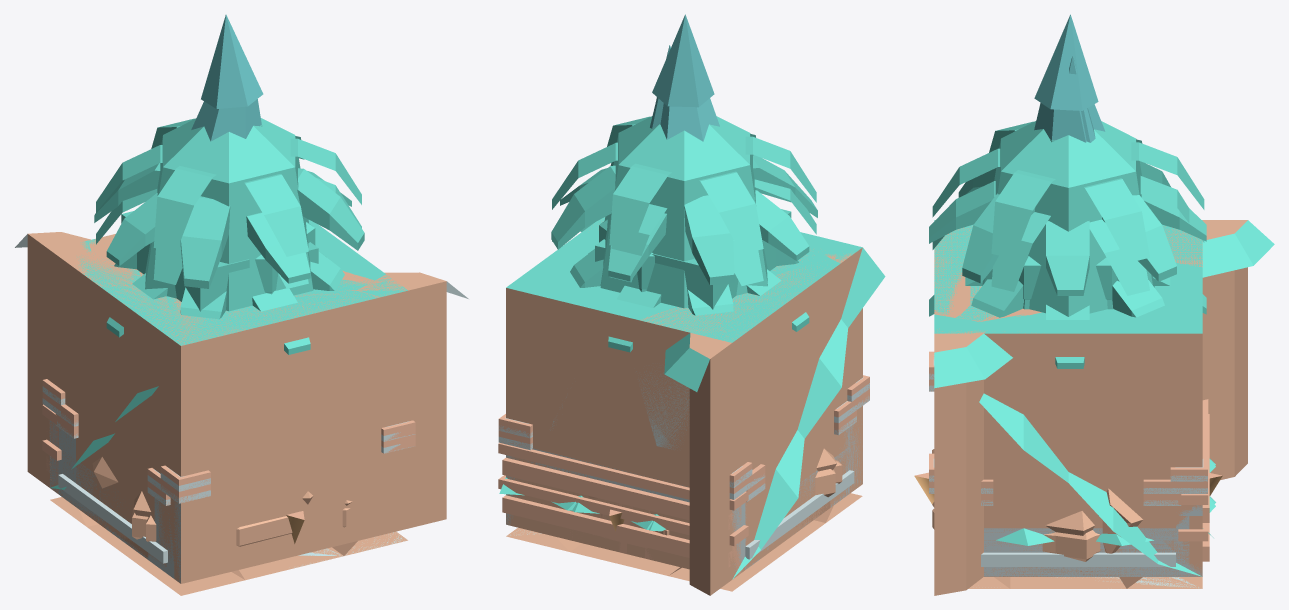
Rendered from Terrain.glb.
3 views of the same model, side by side, from view 1: azimuth 30°, elevation 25°; view 2: azimuth 150°, elevation 25°; view 3: azimuth 270°, elevation 25° (orthographic). The views are drawn at different scales.
Parts seen in each view (by area): view 1: cliff_blockDiagonal_rock, cliff_block_rock, cliff_diagonal_rock, tree_default, tree_palm, leafs.002, cliff_blockCave_stone, cliff_stepsCorner_rock, tree_pineTallD, leafs.003, cliff_cave_rock, cliff_cornerInnerLarge_rock (+26 smaller); view 2: cliff_block_rock, cliff_blockDiagonal_rock, tree_default, cliff_diagonal_rock, tree_palm, cliff_blockSlopeWalls_rock, leafs.002, cliff_blockSlope_rock, fence_planks, cliff_blockCave_rock, cliff_blockCave_stone, cliff_blockHalf_rock (+21 smaller); view 3: cliff_block_rock, cliff_diagonal_rock, tree_default, tree_palm, cliff_cornerInnerLarge_rock, tree_palmTall, cliff_topDiagonal_rock, tree_pineTallD, bridge_center_stone, tree_palmBend, leafs.002, cliff_blockCave_stone (+25 smaller).
Part boxes in pixels (x1,y1,x2,y2): cliff_blockDiagonal_rock: (49,250,408,583); cliff_block_rock: (49,220,407,582); cliff_diagonal_rock: (27,232,446,528); tree_default: (145,118,313,311); tree_palm: (96,118,361,256); leafs.002: (94,163,364,288); cliff_blockCave_stone: (77,220,406,344); cliff_stepsCorner_rock: (69,327,179,578); tree_pineTallD: (191,14,263,141); leafs.003: (106,192,351,283); cliff_cave_rock: (159,274,405,581); cliff_cornerInnerLarge_rock: (74,234,404,342); cliff_block_rock: (506,217,862,568); cliff_blockDiagonal_rock: (732,232,862,578); tree_default: (600,116,767,308); cliff_diagonal_rock: (689,315,732,595); tree_palm: (552,116,816,254); cliff_blockSlopeWalls_rock: (506,218,832,519); leafs.002: (551,155,817,284); cliff_blockSlope_rock: (732,247,885,579); fence_planks: (502,458,732,567); cliff_blockCave_rock: (506,289,689,523); cliff_blockCave_stone: (507,217,834,449); cliff_blockHalf_rock: (506,422,773,568); cliff_block_rock: (934,220,1202,576); cliff_diagonal_rock: (934,220,1247,595); tree_default: (982,121,1154,316); tree_palm: (932,121,1204,262); cliff_cornerInnerLarge_rock: (935,226,1202,576); tree_palmTall: (929,181,1206,295); cliff_topDiagonal_rock: (934,220,1274,388); tree_pineTallD: (1034,14,1105,142); bridge_center_stone: (984,510,1202,576); tree_palmBend: (932,176,1204,295); leafs.002: (958,161,1176,283); cliff_blockCave_stone: (934,225,1202,333).
Size of the model in its own units: 1.37 by 2.13 by 1.34.
